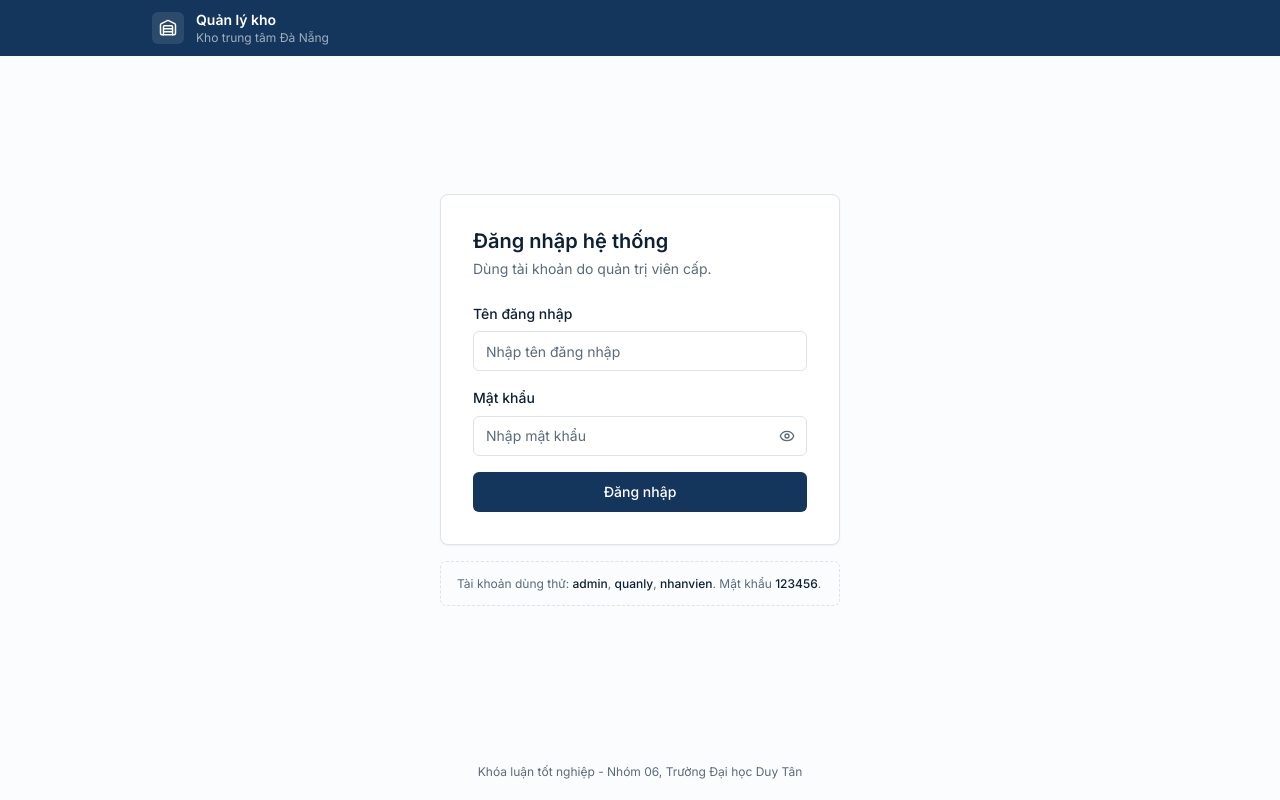
Test: LoginPage › nút con mắt hiện và ẩn lại mật khẩu đang nhập
Type "123456" into the password field labelled "Mật khẩu" at (640, 436), box x1=473 y1=416 x2=807 y2=456
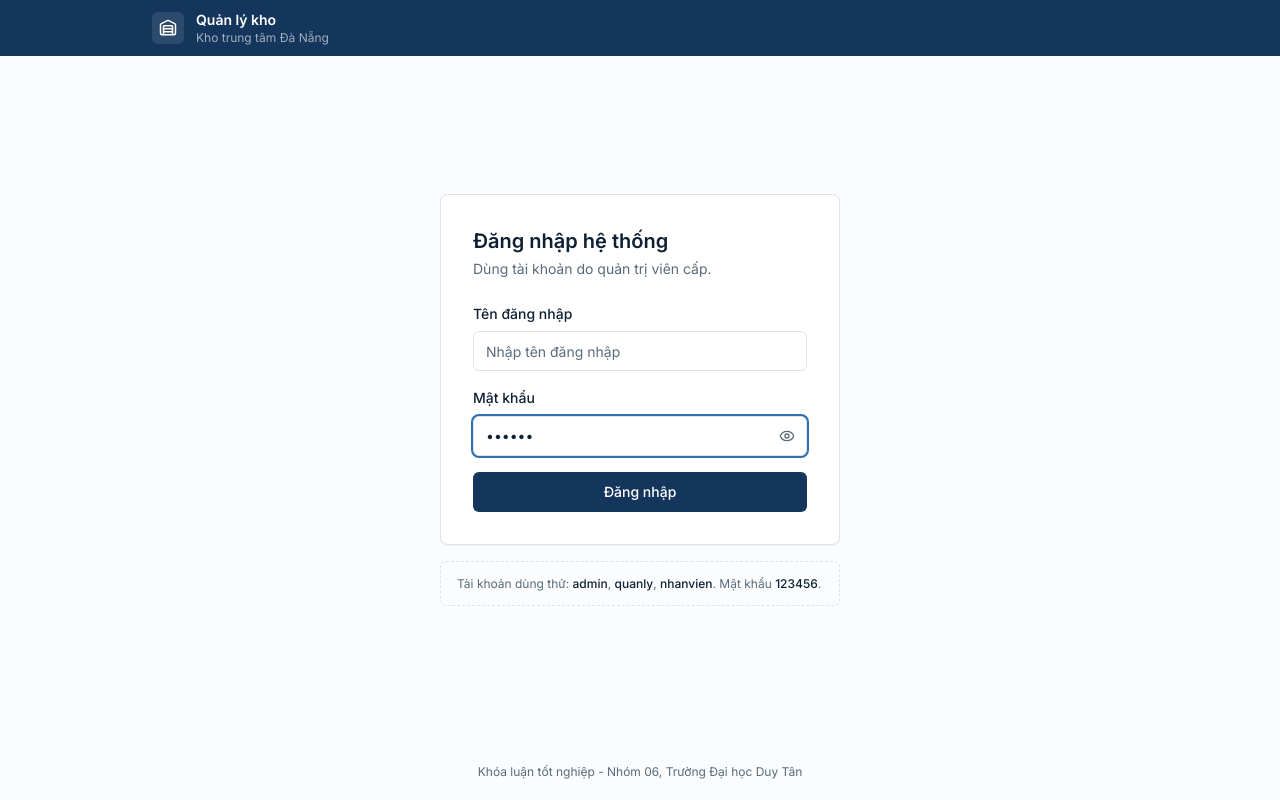
Click the button named "Hiện mật khẩu" at (787, 436), box x1=767 y1=416 x2=807 y2=456
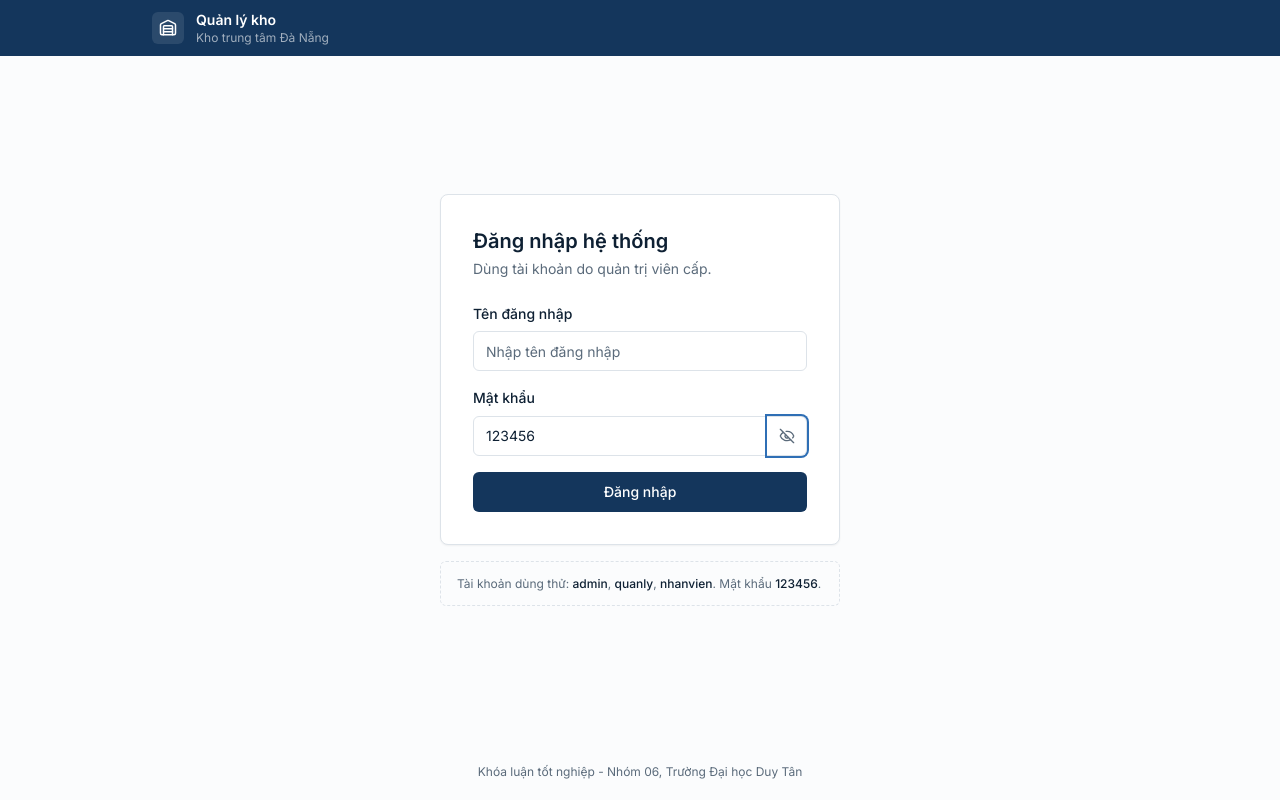
Expected: the field labelled "Mật khẩu" shows its text, x1=473 y1=416 x2=807 y2=456
Click the button named "Ẩn mật khẩu" at (787, 436), box x1=767 y1=416 x2=807 y2=456
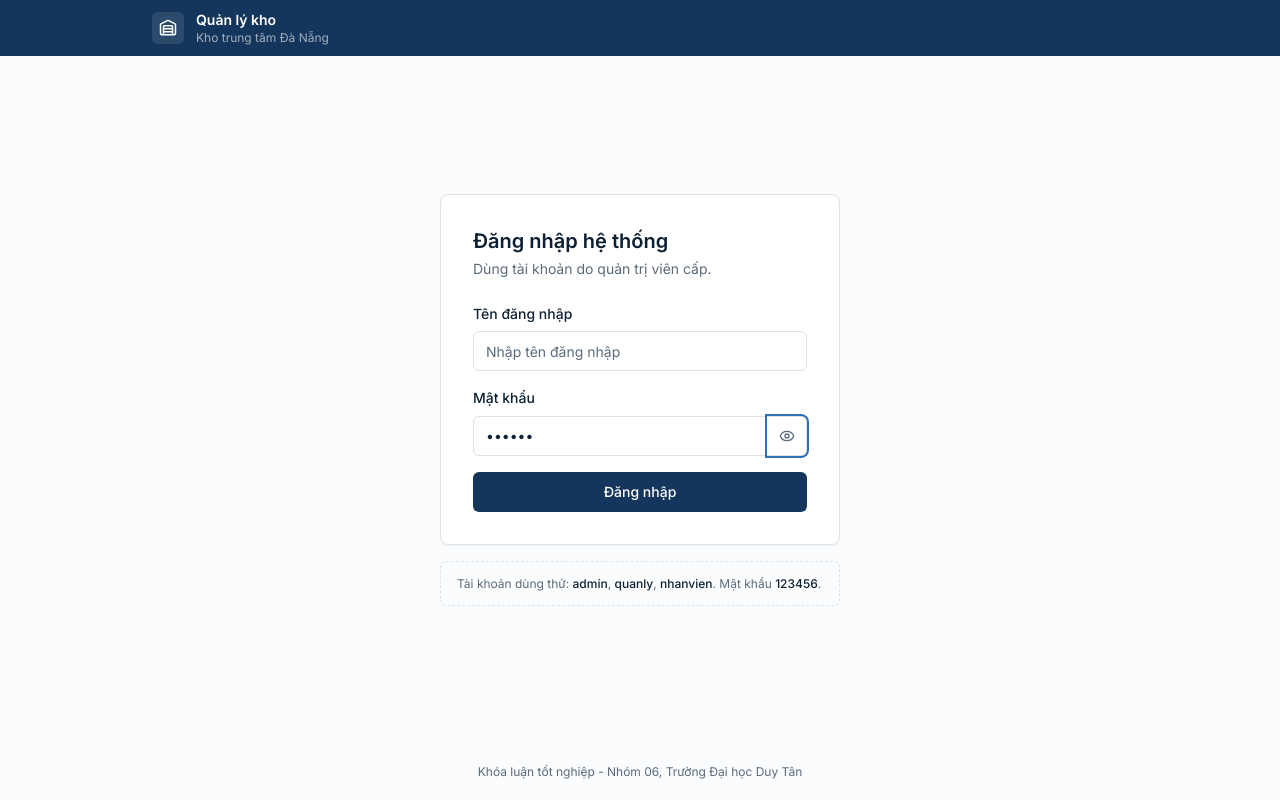
Expected: the password field labelled "Mật khẩu" hides its text, x1=473 y1=416 x2=807 y2=456
